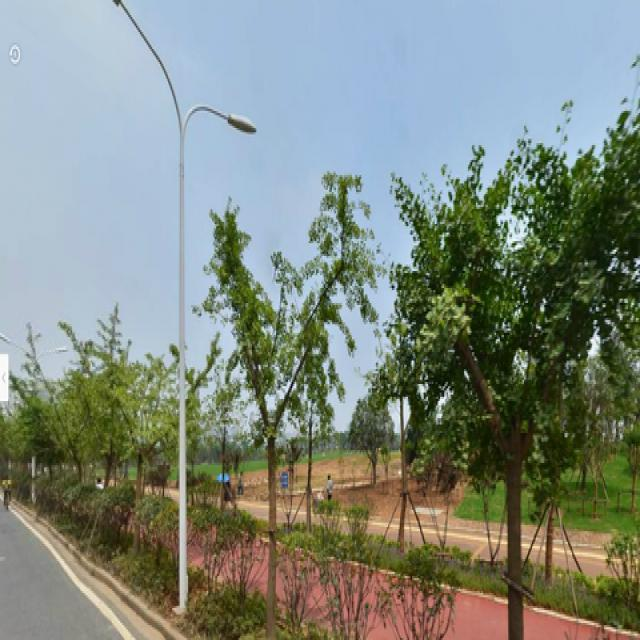gink: (221, 168, 364, 630)
